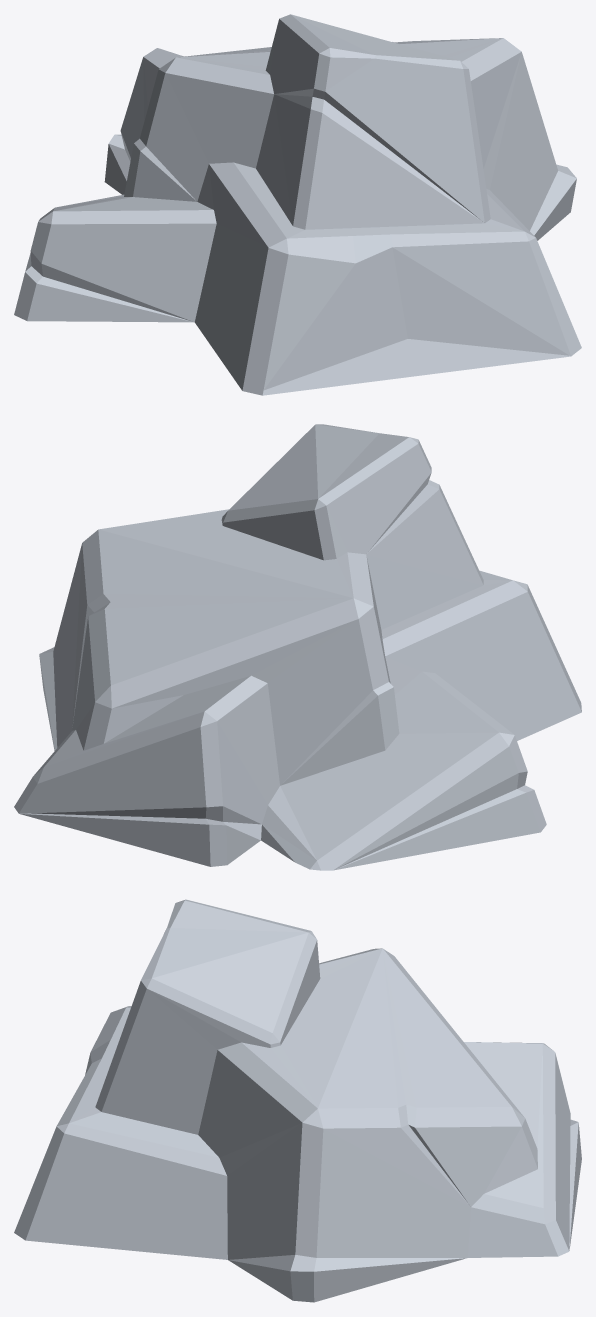
Rendered from model_polytope_rock_medium02.fbx.
The picture shows the model from 3 angles, top to bottom: view 1: azimuth 30°, elevation 25°; view 2: azimuth 150°, elevation 25°; view 3: azimuth 270°, elevation 25°; orthographic projection. The views are drawn at different scales.
Visible parts, largest first — view 1: model_polytope_rock_medium02; view 2: model_polytope_rock_medium02; view 3: model_polytope_rock_medium02.
Part boxes in pixels (x1,y1,x2,y2): model_polytope_rock_medium02: [14, 14, 581, 395]; model_polytope_rock_medium02: [14, 424, 581, 870]; model_polytope_rock_medium02: [14, 899, 581, 1302].
Size of the model in its own units: 1556 by 781 by 1529.
